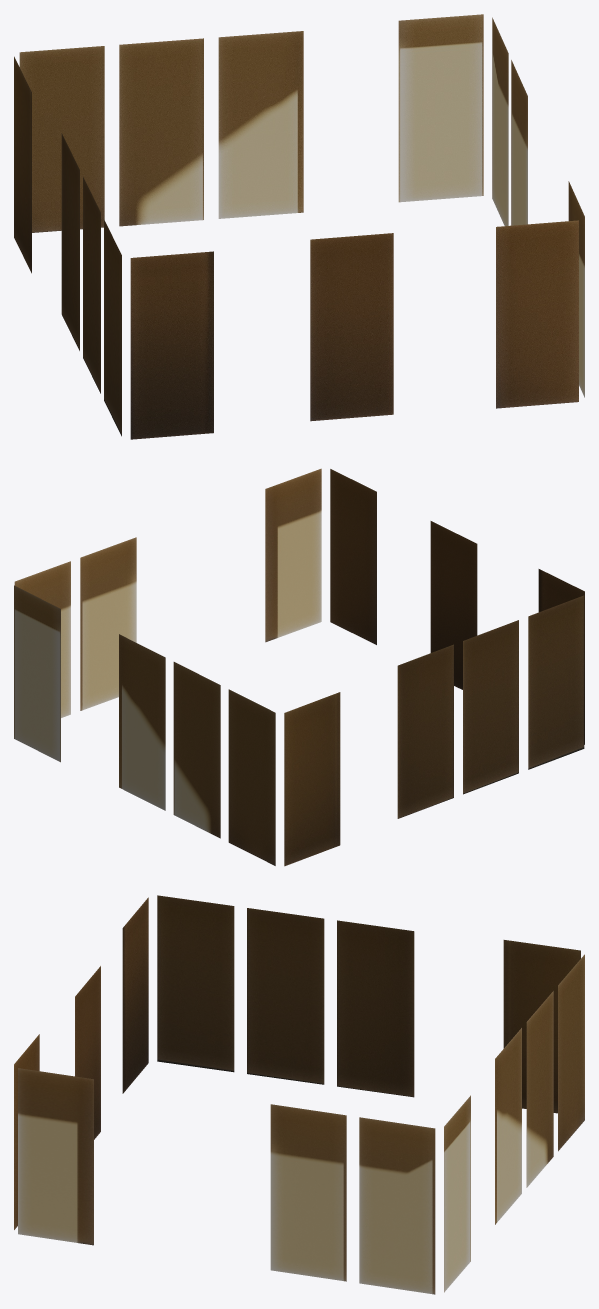
Rendered from Building_00_Glass.fbx.
The picture shows the model from 3 angles, top to bottom: view 1: azimuth 30°, elevation 25°; view 2: azimuth 150°, elevation 25°; view 3: azimuth 270°, elevation 25°; orthographic projection. The views are drawn at different scales.
Visible parts, largest first — view 1: Building_00_Glass; view 2: Building_00_Glass; view 3: Building_00_Glass.
Boxes of the visible parts, left/top/right/bottom form: Building_00_Glass: left=14, top=14, right=584, bottom=439; Building_00_Glass: left=14, top=468, right=584, bottom=866; Building_00_Glass: left=14, top=895, right=584, bottom=1294.
Size of the model in its own units: 8.21 by 2.73 by 8.5.
Materials: 1 (1 with a texture image).
